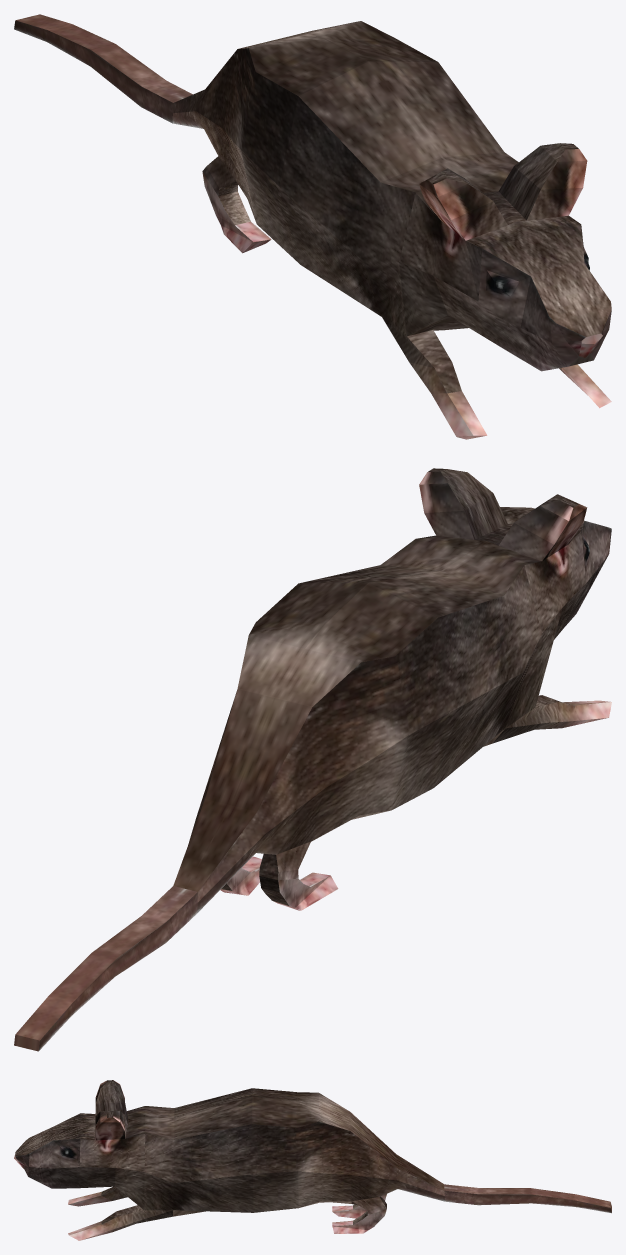
The model's file is rat.obj.
3 views of the same model, one above another, from view 1: azimuth 30°, elevation 25°; view 2: azimuth 150°, elevation 25°; view 3: azimuth 270°, elevation 25° (orthographic). The views are drawn at different scales.
Parts seen in each view (by area): view 1: ps1_rat; view 2: ps1_rat; view 3: ps1_rat.
Boxes of the visible parts, box(x1,y1,x2,y2) form: ps1_rat: box(14, 14, 611, 439); ps1_rat: box(14, 468, 611, 1051); ps1_rat: box(14, 1080, 611, 1240).
Size of the model in its own units: 0.1315 by 0.1716 by 0.7323.
1 material, 1 textured.
